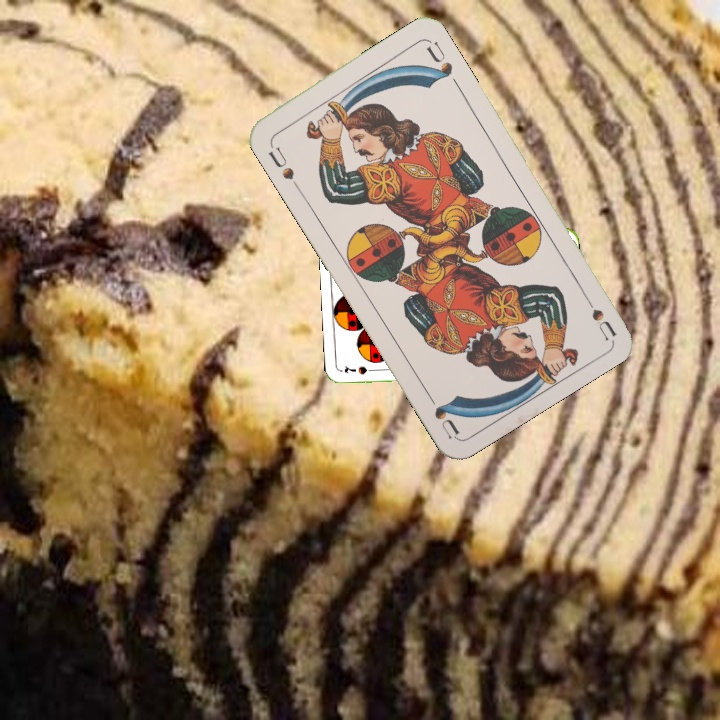S7: (340, 362, 380, 377)
SU: (577, 286, 618, 341), (264, 138, 302, 192)
